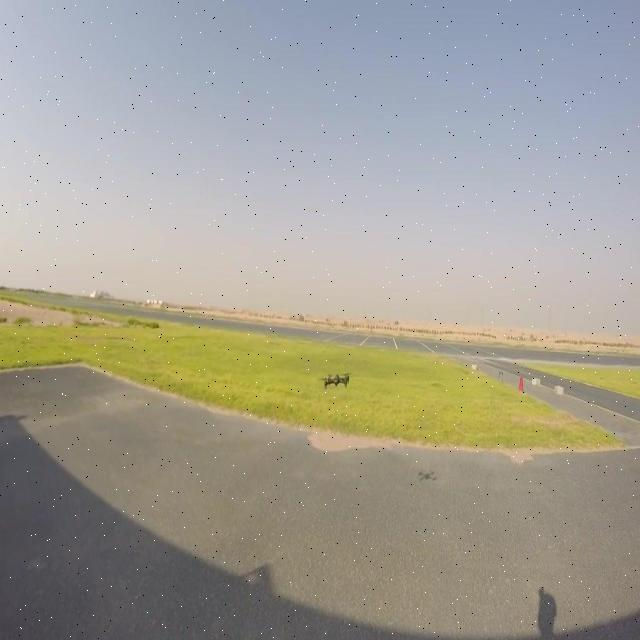UAV: (318, 372, 352, 390)
